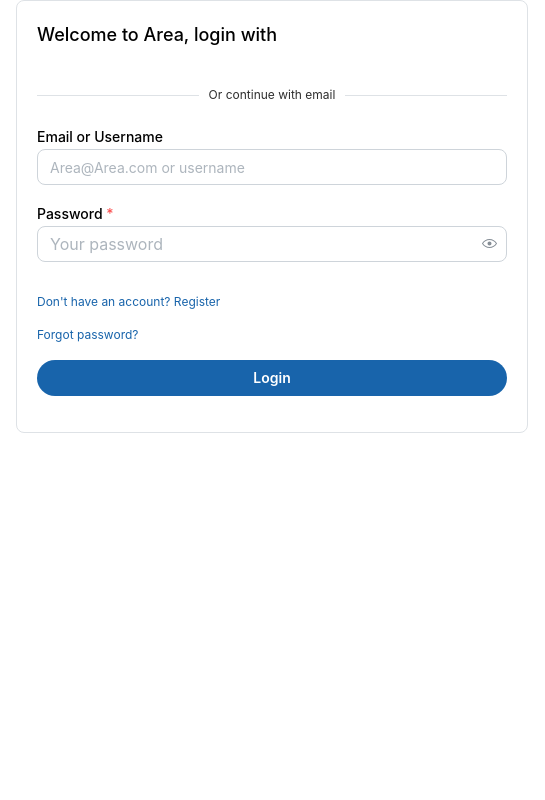
AuthenticationForm › switches to register mode
Click the button "Don't have an account? Register" at (129, 302), box [37,294,220,311]
(page scrolled)
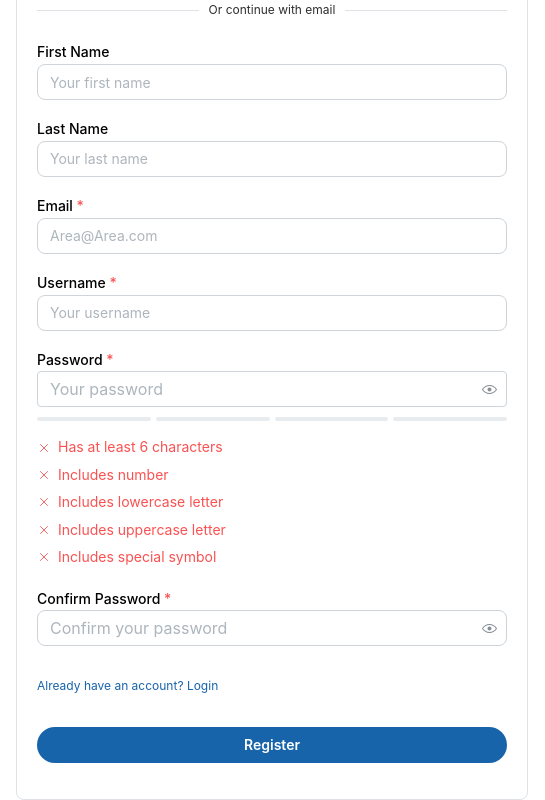
Now the field with placeholder "Your first name" is shown, box [37,64,507,100]
Now the field with placeholder "Your last name" is shown, box [37,141,507,177]
Now the password field with placeholder "Confirm your password" is shown, box [38,611,506,645]
